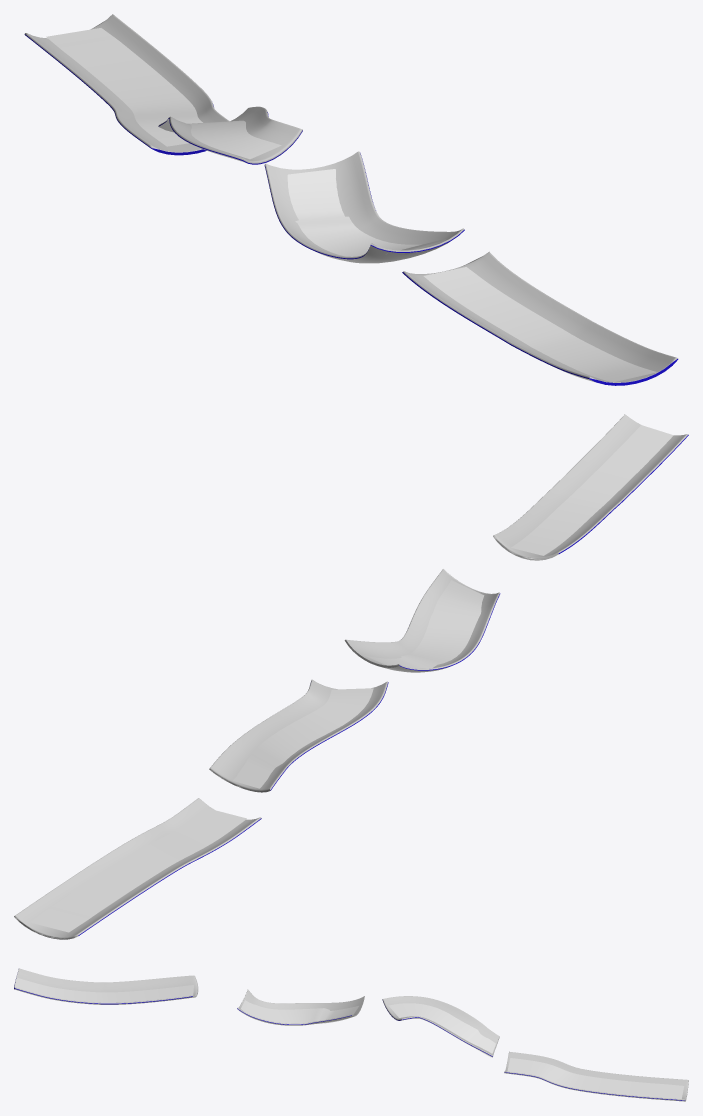
File: Way 2.FBX
3 views of the same model, one above another, from view 1: azimuth 30°, elevation 25°; view 2: azimuth 150°, elevation 25°; view 3: azimuth 270°, elevation 25° (orthographic). The views are drawn at different scales.
Parts seen in each view (by area): view 1: Group002, Plane002; view 2: Plane002, Group002; view 3: Plane002, Group002.
Part boxes in pixels (x1=…): Group002: x1=24, y1=14, x2=678, y2=385; Plane002: x1=46, y1=28, x2=657, y2=382; Plane002: x1=30, y1=425, x2=673, y2=932; Group002: x1=14, y1=414, x2=688, y2=939; Plane002: x1=14, y1=977, x2=684, y2=1099; Group002: x1=14, y1=968, x2=688, y2=1101.
Bounding box in the file's own units: 56152 × 49951 × 324864.
